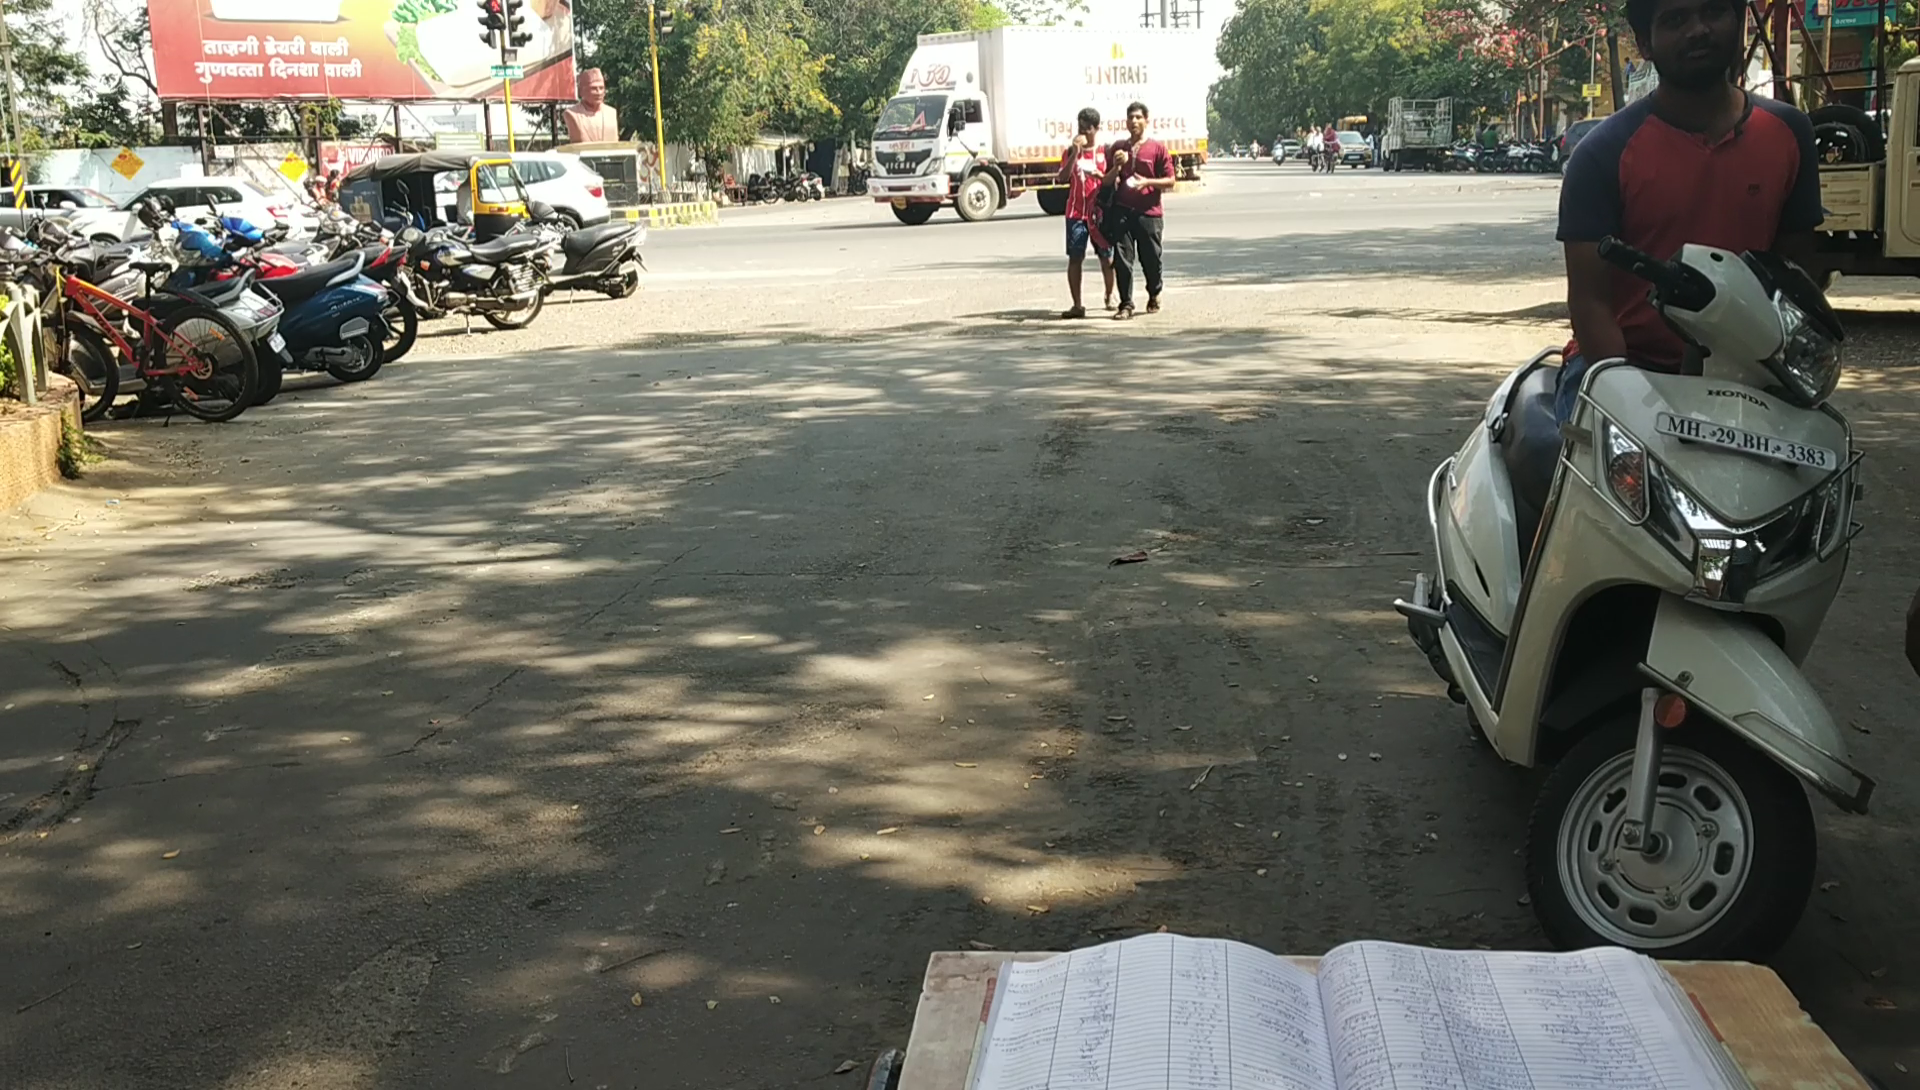car: (1389, 228, 1898, 979)
numplate: (1647, 407, 1856, 488)
